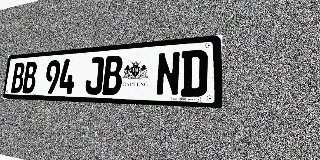4: (58, 59, 76, 94)
9: (44, 60, 61, 94)
B: (102, 55, 123, 95), (22, 61, 37, 93), (11, 62, 25, 93)
D: (180, 49, 208, 97)
J: (84, 56, 104, 95)
N: (155, 51, 181, 96)
